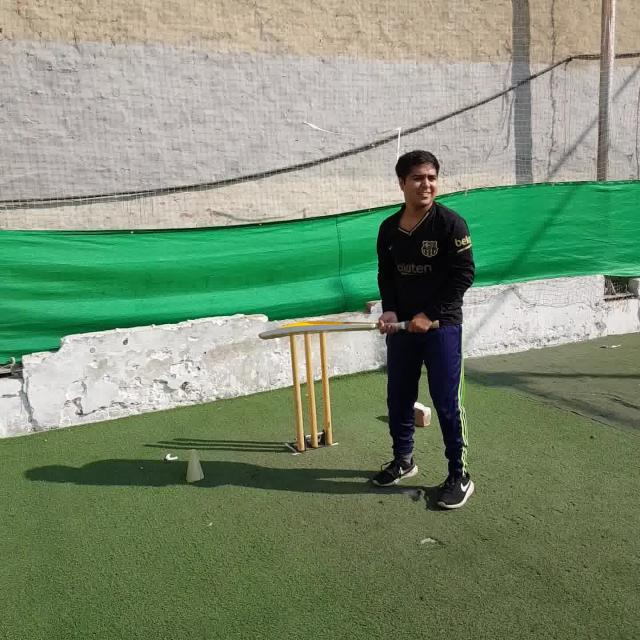bat: (259, 320, 438, 340)
